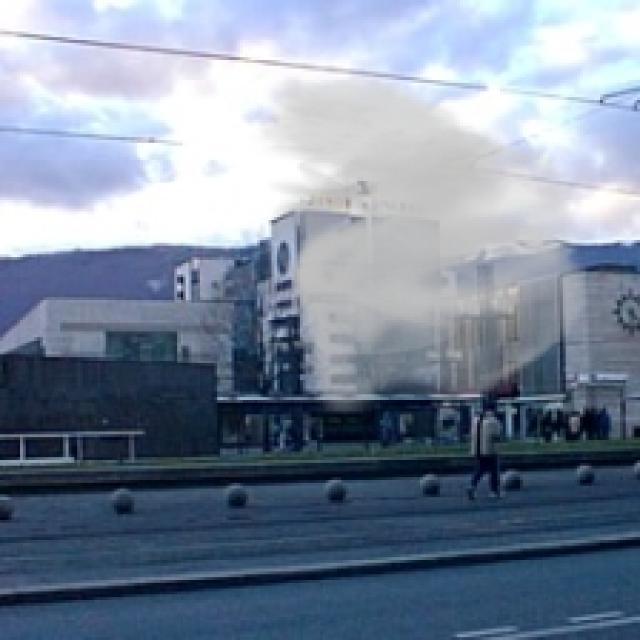Smoke: (252, 72, 597, 414)
